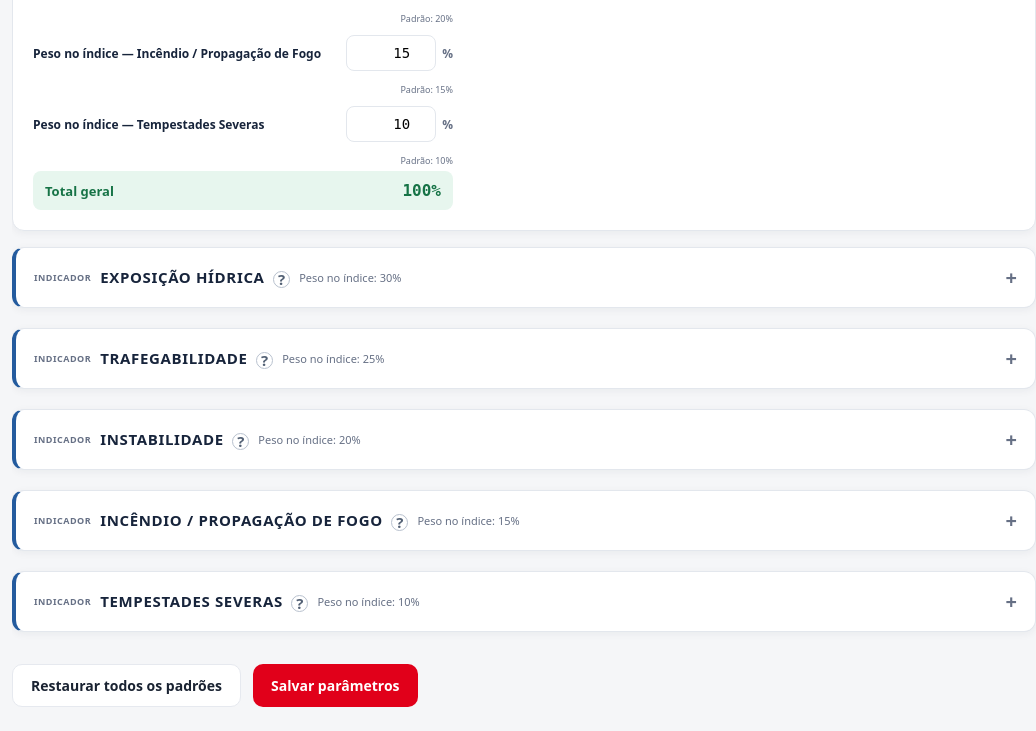
Test: tela Riscos e Score › exibe o fator vento-chuva das Tempestades com os rótulos corretos
(page scrolled)
Click the heading "Tempestades Severas". click: (204, 602)
box: [100, 592, 308, 612]
(page scrolled)
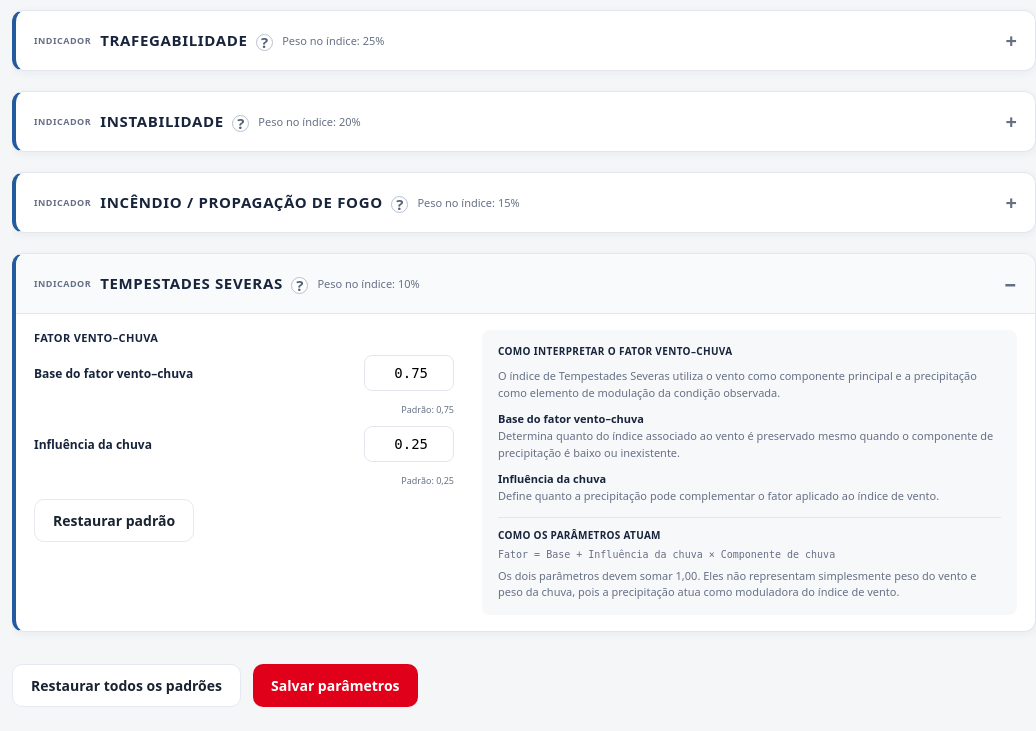
Now the number field labelled "Base do fator vento–chuva" holds "0.75", box [364, 355, 454, 391]
Now the number field labelled "Influência da chuva" holds "0.25", box [364, 426, 454, 462]
